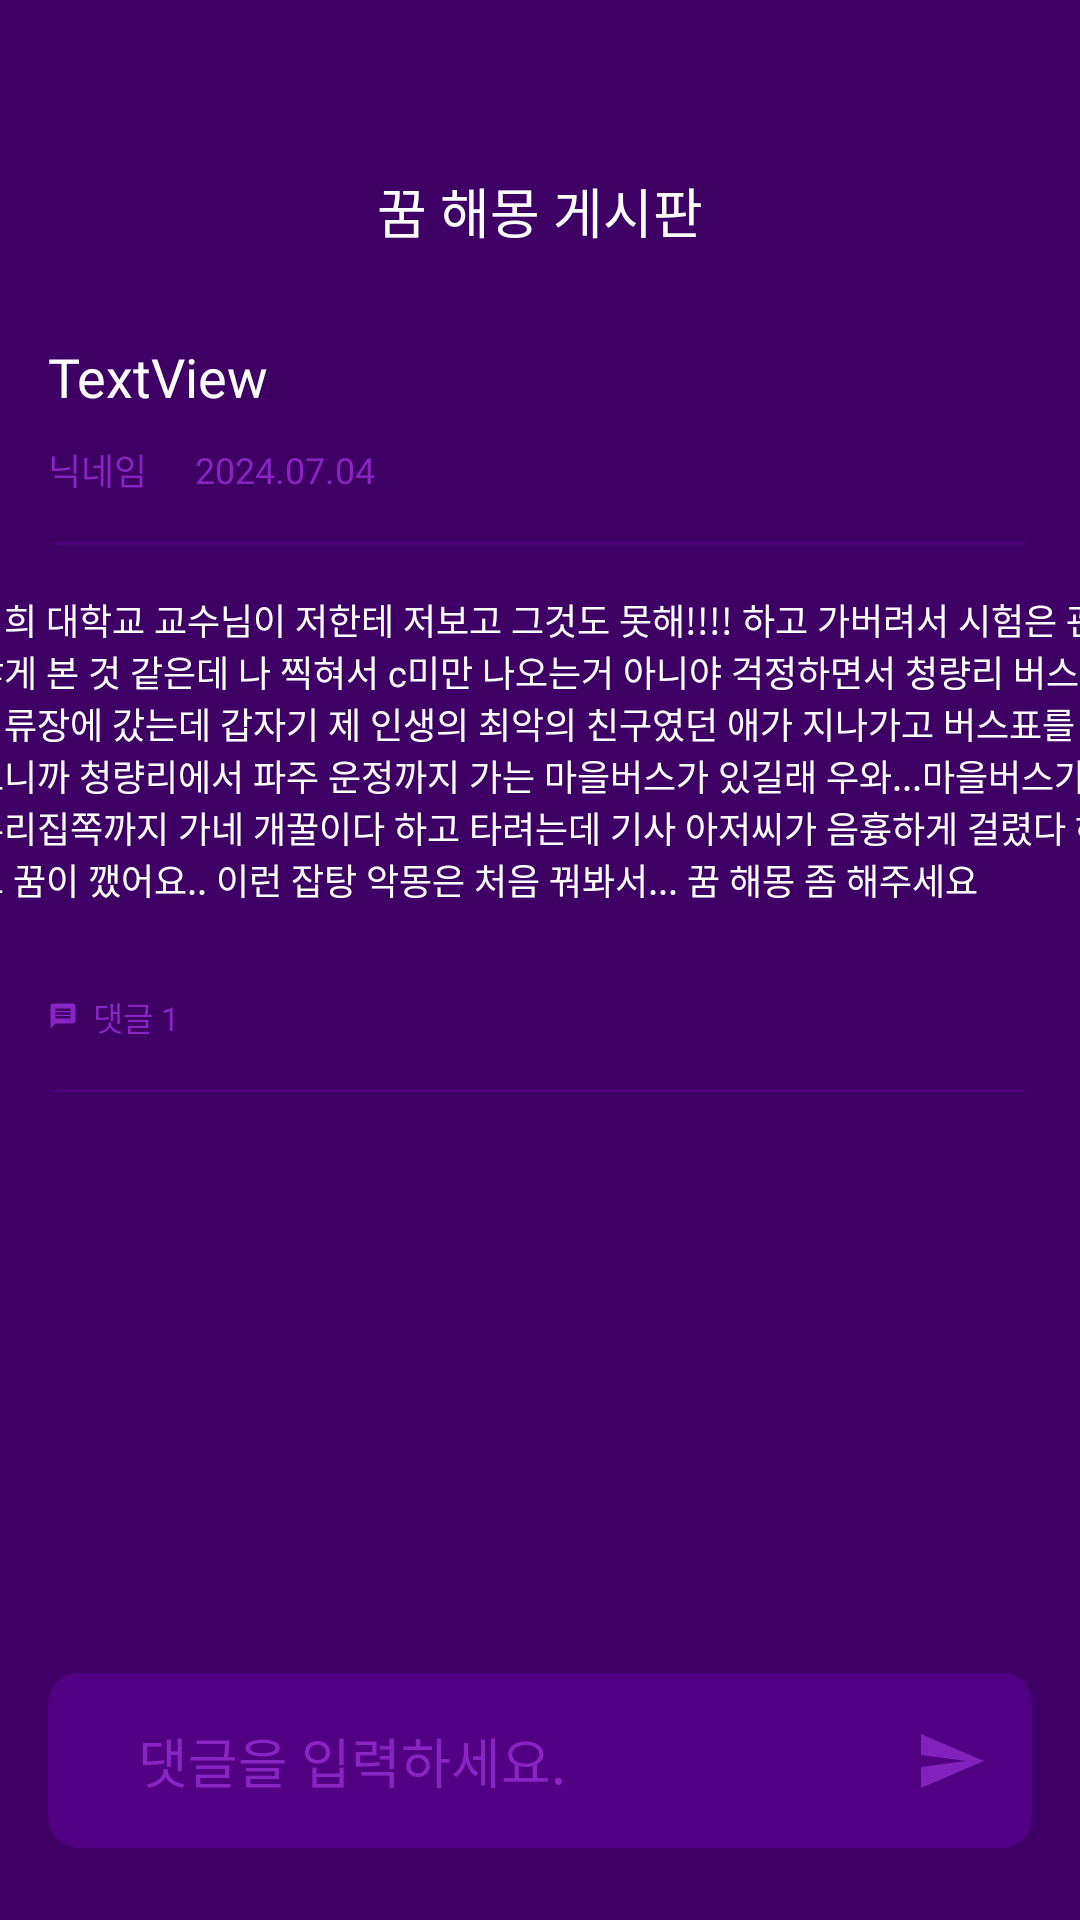

Icon bounding boxes for this 1080 x 1920 phone screenshot, format (x1, y1, x2, y2):
message: (50, 1003, 76, 1028)
send: (921, 1734, 983, 1788)
